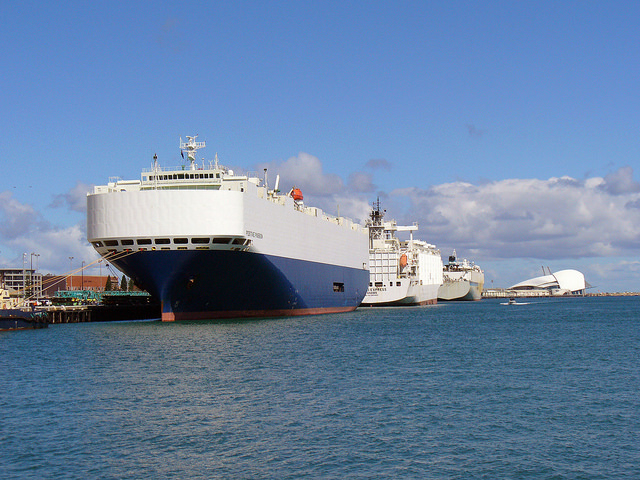PCC: (81, 130, 372, 322), (370, 204, 445, 310), (439, 249, 485, 301)
